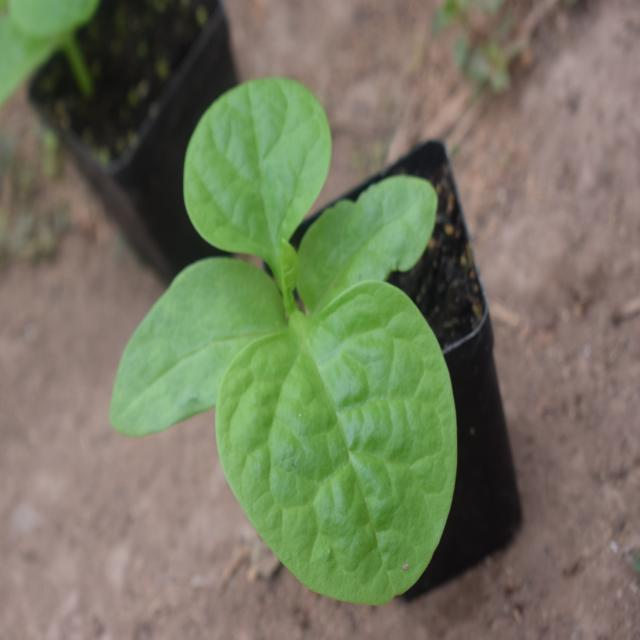Ceylon spinach: (135, 70, 468, 608)
